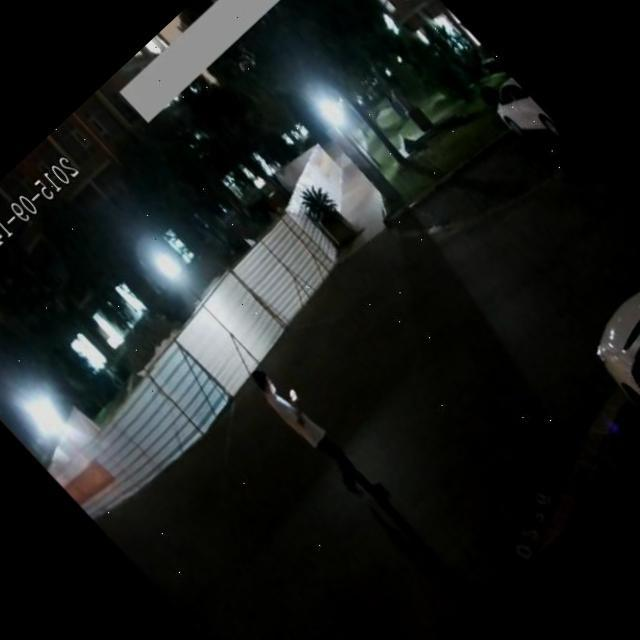person: (239, 356, 406, 531)
